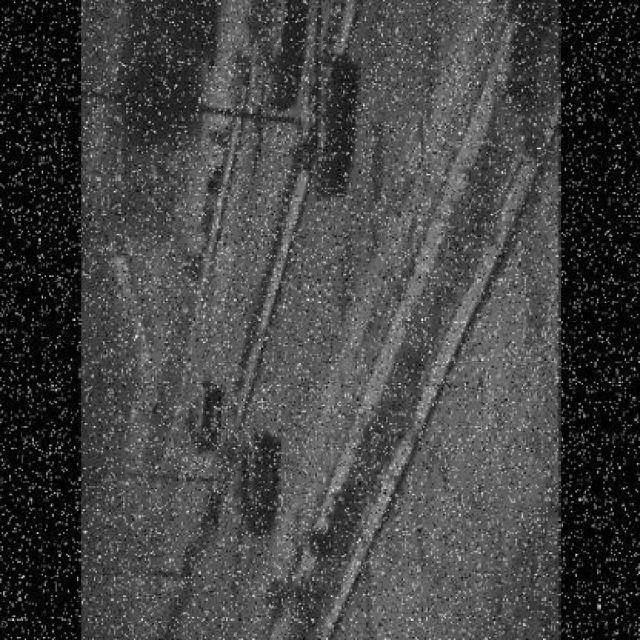Tank: (292, 1, 367, 218), (243, 1, 312, 172), (224, 424, 283, 623), (178, 379, 226, 475)
